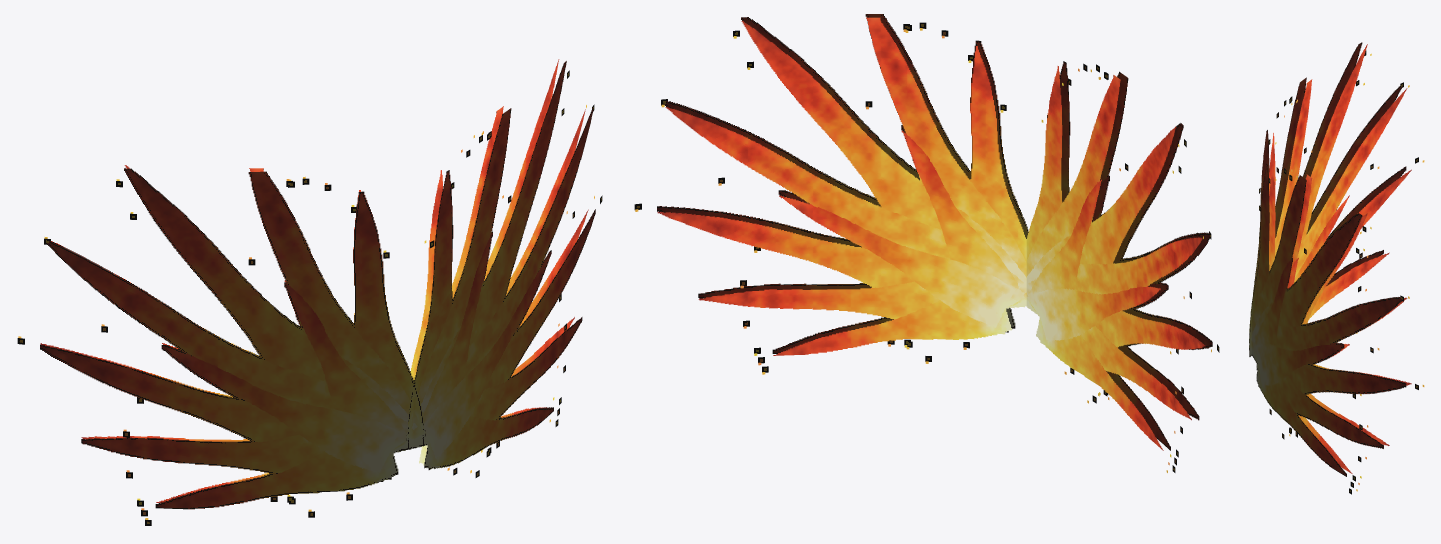
The model's file is phoenix_blaze_wings.glb.
3 views of the same model, side by side, from view 1: azimuth 30°, elevation 25°; view 2: azimuth 150°, elevation 25°; view 3: azimuth 270°, elevation 25° (orthographic). The views are drawn at different scales.
Visible parts, largest first — view 1: Phoenix Blaze Wings Wing Right, Phoenix Blaze Wings Wing Left; view 2: Phoenix Blaze Wings Wing Left, Phoenix Blaze Wings Wing Right; view 3: Phoenix Blaze Wings Wing Left, Phoenix Blaze Wings Wing Right.
Part boxes in pixels (x1=…): Phoenix Blaze Wings Wing Right: x1=17, y1=165, x2=425, y2=525; Phoenix Blaze Wings Wing Left: x1=406, y1=59, x2=602, y2=477; Phoenix Blaze Wings Wing Left: x1=634, y1=14, x2=1028, y2=374; Phoenix Blaze Wings Wing Right: x1=1026, y1=61, x2=1219, y2=472; Phoenix Blaze Wings Wing Left: x1=1249, y1=164, x2=1424, y2=494; Phoenix Blaze Wings Wing Right: x1=1249, y1=42, x2=1424, y2=369.
Size of the model in its own units: 1.87 by 1.09 by 0.6148.
Materials: 2 (2 with a texture image).
